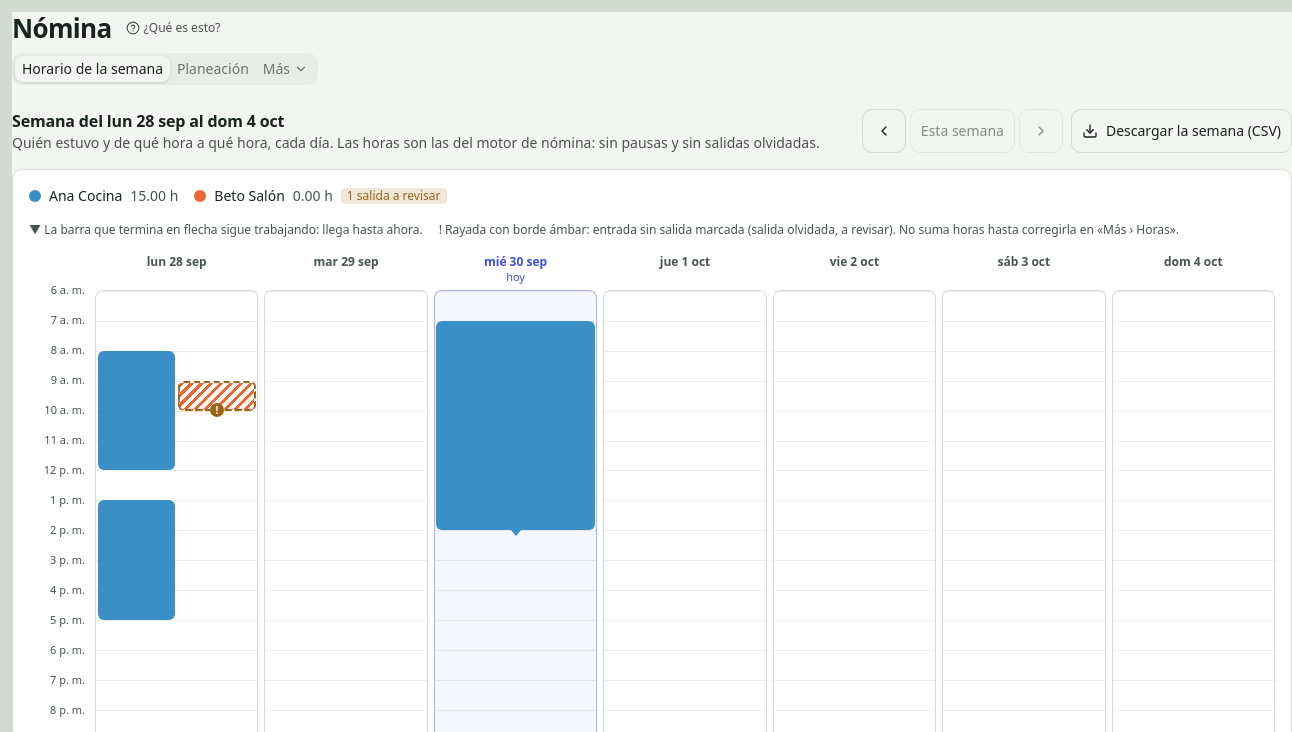
Test: Nómina: el horario de la semana es la vista por defecto › abre en «Horario de la semana» y manda las demás pestañas a «Más»
Check: the tab "Horario de la semana" is shown, box [15,56,170,82]
Step 1. Click the button "Más" → click(285, 68), box [256,56,315,82]
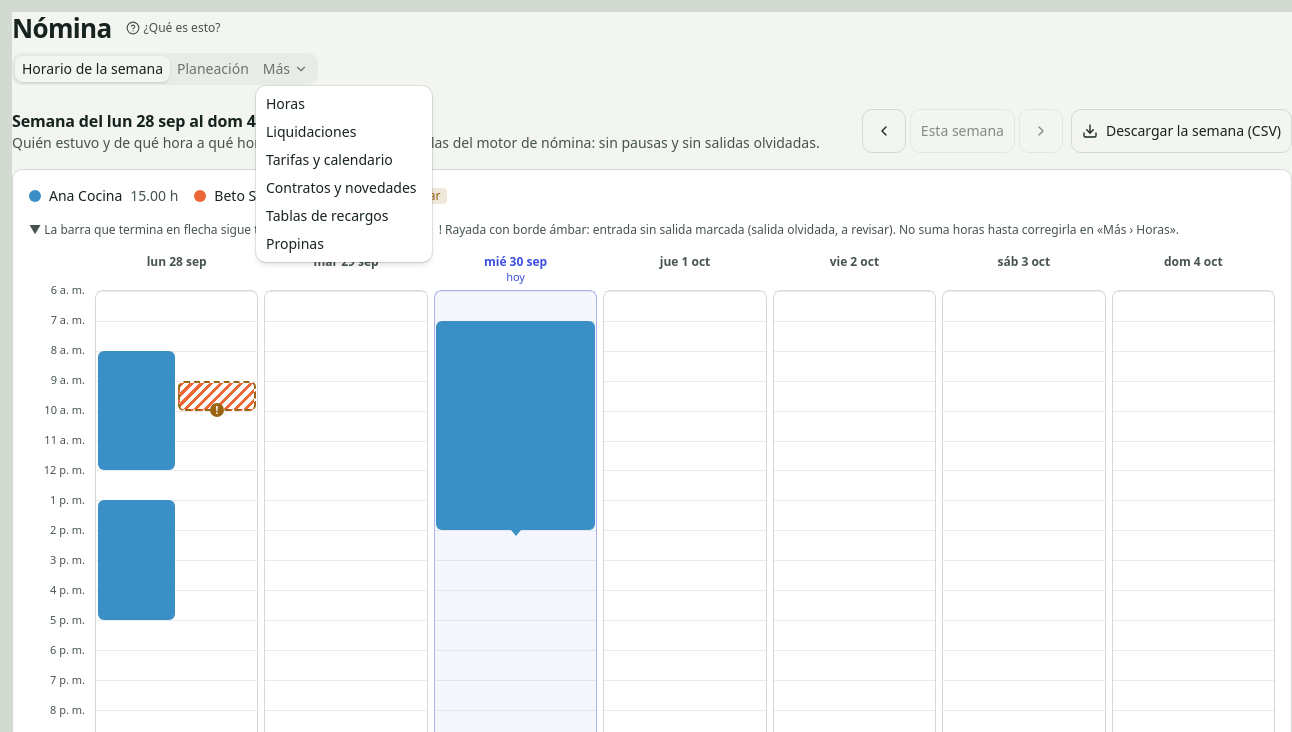
Check: the menu item "Horas" is shown, box [266,94,305,113]
Check: the menu item "Liquidaciones" is shown, box [266,122,356,141]
Check: the menu item "Tarifas y calendario" is shown, box [266,150,393,169]
